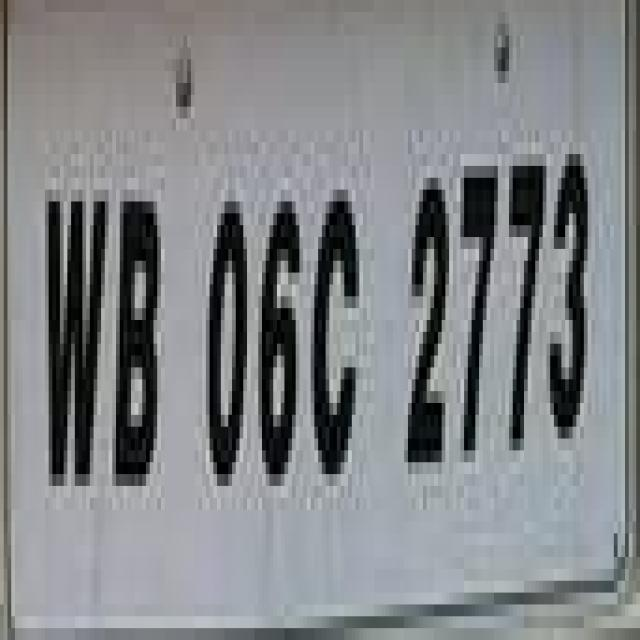license_plate: (22, 24, 640, 616)
